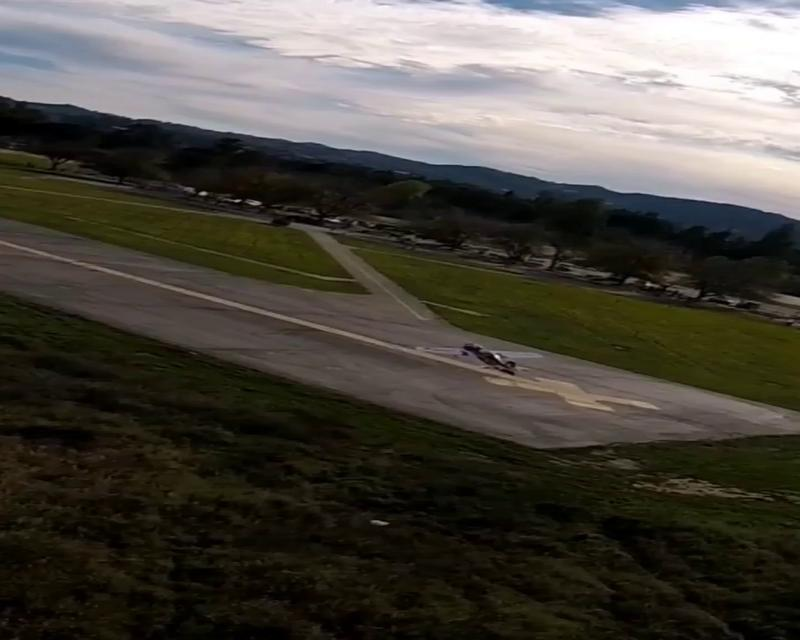UAV: (417, 341, 542, 376)
